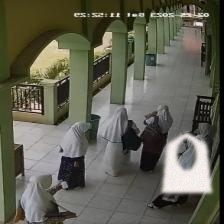Mukena: (162, 132, 211, 192)
